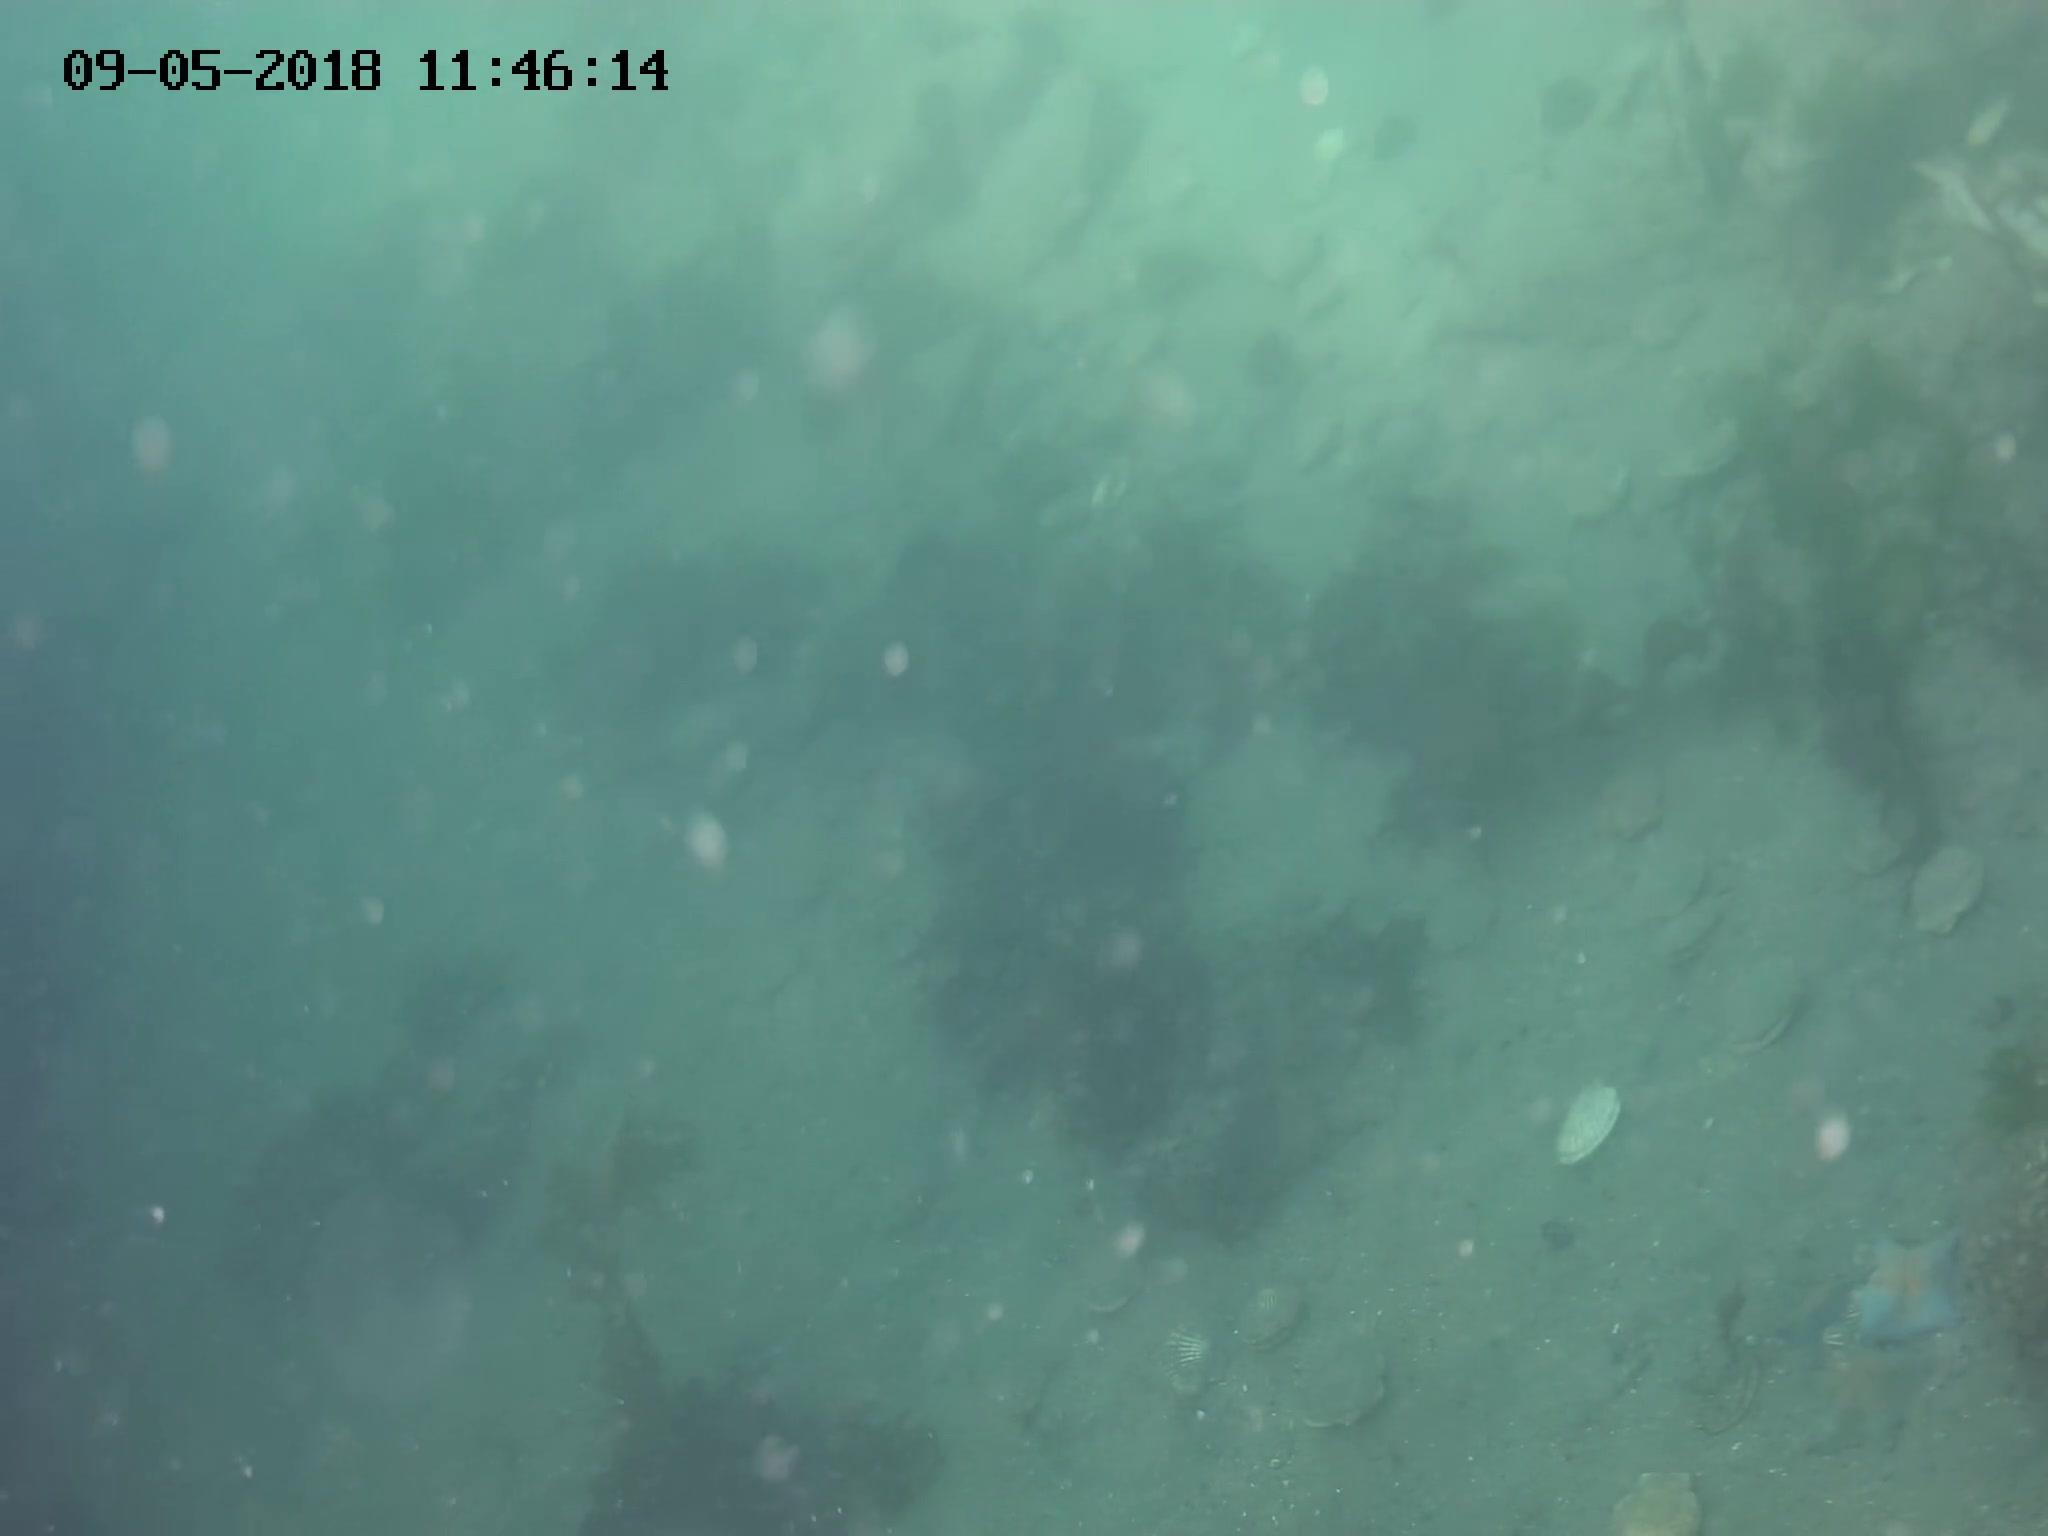scallop: (1284, 1338, 1403, 1430), (1729, 962, 1808, 1062), (1909, 850, 1993, 942), (1688, 1349, 1767, 1438), (1550, 1083, 1627, 1170), (1613, 1467, 1709, 1536), (1151, 1321, 1230, 1404), (1840, 795, 1921, 874), (1414, 886, 1500, 957), (1588, 766, 1669, 836), (1638, 857, 1713, 918), (1659, 908, 1725, 970), (1788, 1110, 1856, 1170), (1247, 1283, 1308, 1347), (743, 1430, 806, 1483), (1077, 1270, 1132, 1317), (1103, 1217, 1147, 1262)
starfish: (1792, 1334, 1925, 1457), (1845, 1223, 1971, 1349)
